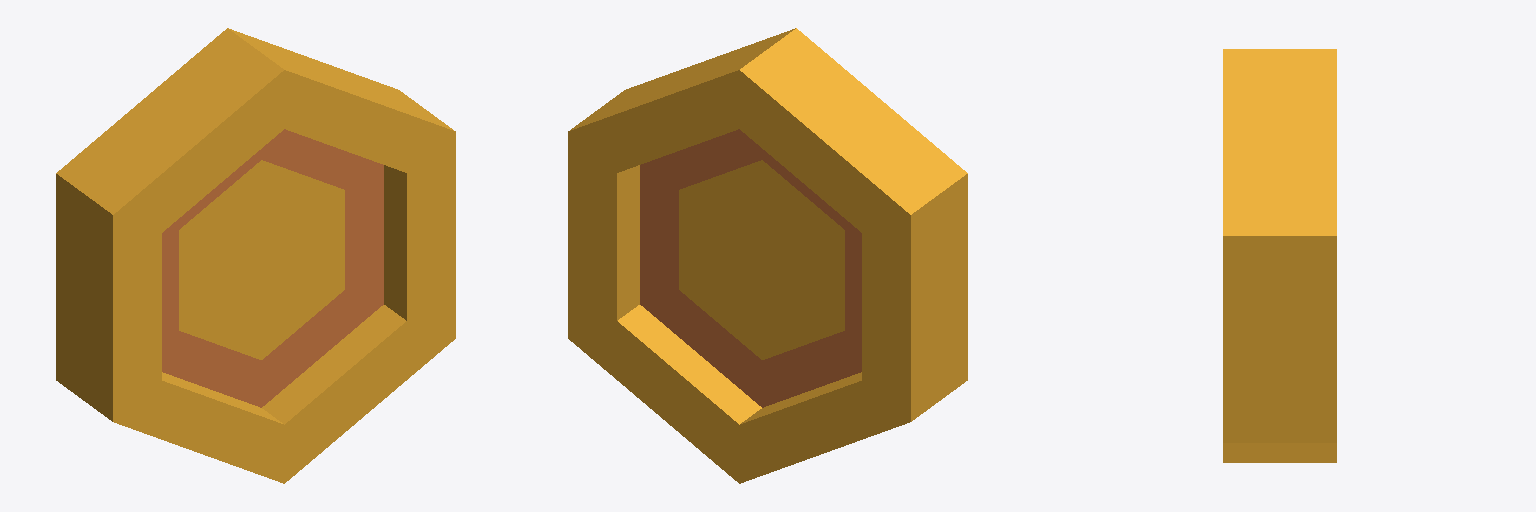
Rendered from coin.obj.
The picture shows the model from 3 angles: view 1: azimuth 30°, elevation 25°; view 2: azimuth 150°, elevation 25°; view 3: azimuth 270°, elevation 25°; orthographic projection.
Parts seen in each view (by area): view 1: coinGold; view 2: coinGold; view 3: coinGold.
Boxes of the visible parts, x1=… form: coinGold: x1=56, y1=28, x2=455, y2=483; coinGold: x1=568, y1=28, x2=967, y2=483; coinGold: x1=1223, y1=49, x2=1336, y2=462.
Size of the model in its own units: 0.3464 by 0.4 by 0.1.